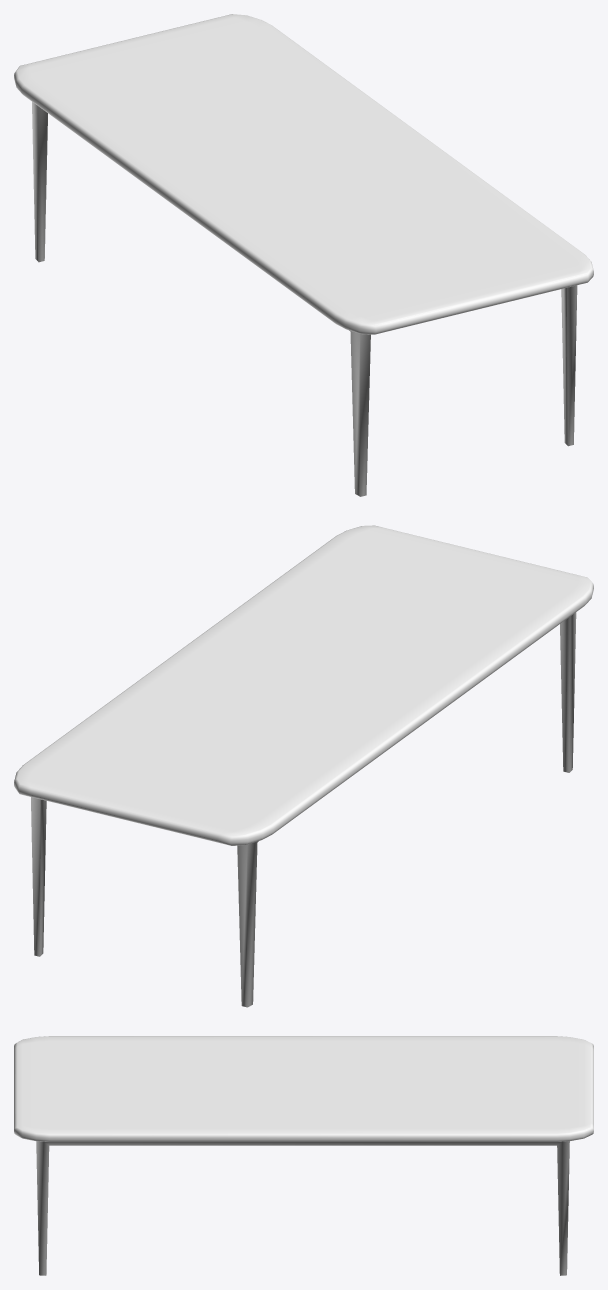
File: Conference_TableV1.fbx
3 renders of one model, top to bottom at view 1: azimuth 30°, elevation 25°; view 2: azimuth 150°, elevation 25°; view 3: azimuth 270°, elevation 25°, orthographic. The views are drawn at different scales.
Parts seen in each view (by area): view 1: Cube; view 2: Cube; view 3: Cube.
Boxes of the visible parts, x1=… form: Cube: x1=14, y1=14, x2=593, y2=496; Cube: x1=14, y1=525, x2=593, y2=1007; Cube: x1=14, y1=1036, x2=593, y2=1275.
Size of what is drawn, in the model's own units: 114 by 78.71 by 279.
1 material, 1 textured.
